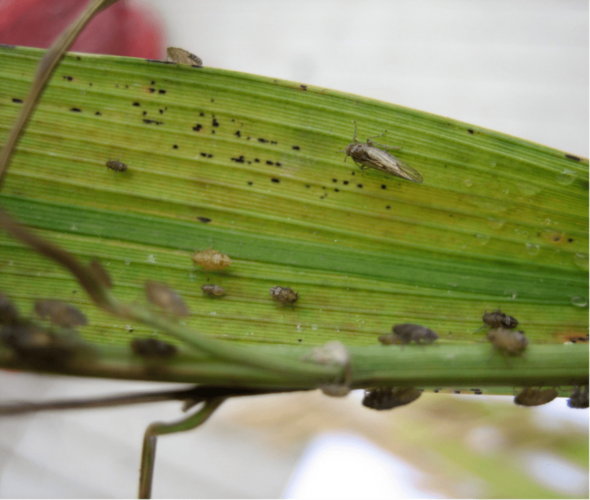Delphacidae: (340, 120, 425, 184), (361, 384, 423, 409), (189, 243, 233, 273), (486, 329, 528, 357), (513, 382, 558, 407), (268, 284, 301, 308), (480, 307, 519, 327), (199, 281, 226, 297)
